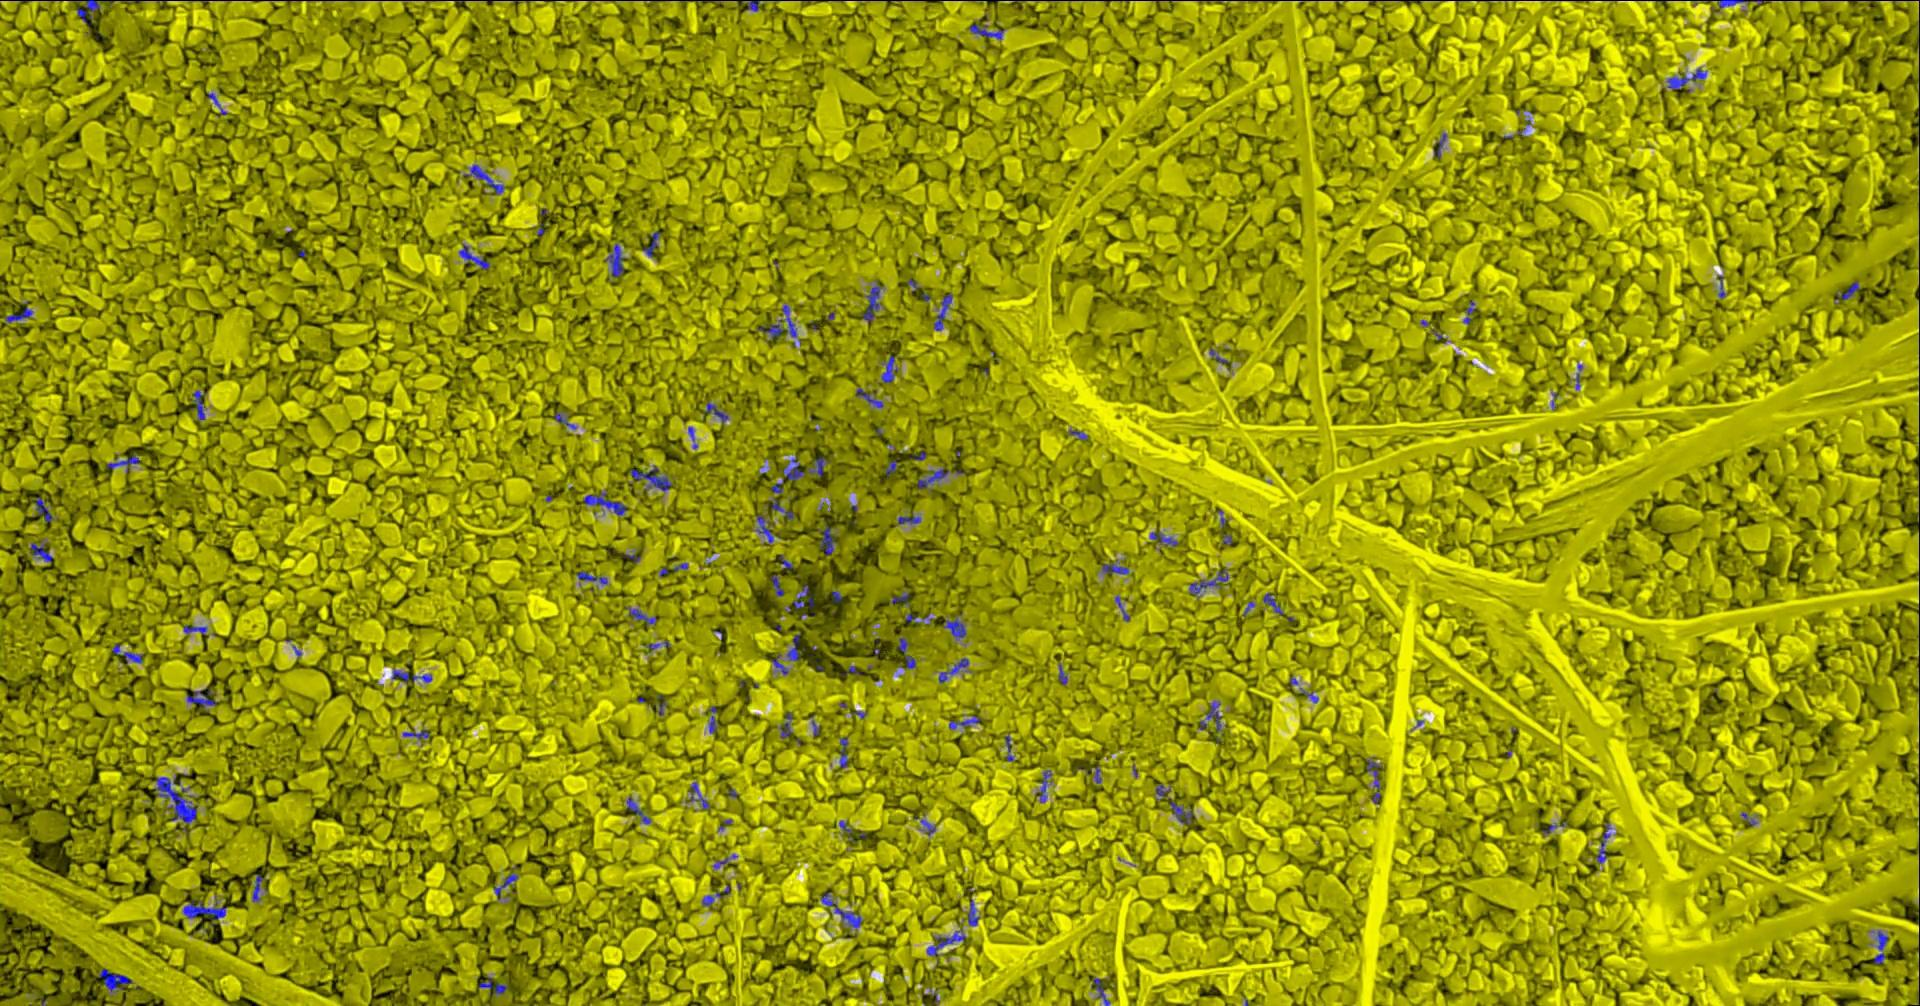ant: (154, 776, 196, 823), (820, 892, 861, 929), (757, 304, 796, 339), (771, 456, 804, 493), (463, 164, 503, 194), (183, 898, 225, 926), (629, 465, 670, 490), (926, 929, 965, 955), (582, 492, 626, 514), (76, 0, 113, 25), (1189, 570, 1227, 594), (1667, 66, 1705, 89), (861, 279, 880, 321), (98, 968, 132, 991), (458, 244, 489, 269), (938, 657, 968, 682), (933, 293, 952, 330), (916, 467, 949, 488), (1366, 760, 1382, 803), (604, 243, 623, 277), (110, 643, 142, 663), (626, 796, 650, 823), (493, 873, 517, 899), (4, 300, 32, 323), (1596, 821, 1611, 862), (1199, 701, 1220, 730), (817, 521, 836, 554), (105, 455, 138, 473), (34, 497, 57, 522), (185, 688, 216, 708), (855, 386, 883, 406), (1088, 977, 1109, 1005), (968, 23, 1004, 38), (477, 976, 507, 995), (1170, 800, 1194, 823), (1872, 930, 1888, 963), (1035, 770, 1051, 801), (690, 782, 709, 809), (391, 669, 430, 682), (756, 514, 773, 542), (705, 401, 728, 423), (1262, 592, 1284, 615), (792, 584, 813, 608), (786, 634, 804, 661), (808, 455, 829, 476), (626, 607, 657, 622), (29, 542, 52, 561), (1834, 281, 1858, 298), (881, 354, 897, 382), (1149, 531, 1177, 546), (643, 231, 659, 257), (943, 617, 965, 636), (190, 390, 204, 419), (1114, 594, 1129, 621), (949, 715, 980, 728), (1717, 0, 1769, 8), (771, 653, 789, 674), (552, 412, 575, 428), (1102, 559, 1128, 573), (577, 572, 607, 583), (1432, 133, 1446, 158), (778, 711, 791, 737), (251, 874, 263, 901), (968, 899, 979, 925), (701, 890, 721, 904), (771, 574, 783, 596), (891, 592, 909, 607), (403, 729, 429, 739), (839, 737, 848, 767), (1463, 301, 1474, 324), (183, 624, 207, 634), (655, 695, 667, 715), (1156, 782, 1170, 799), (1004, 735, 1013, 761), (884, 459, 897, 475), (897, 514, 919, 523), (709, 705, 716, 732), (900, 655, 916, 668), (897, 636, 907, 653), (745, 0, 759, 11)
